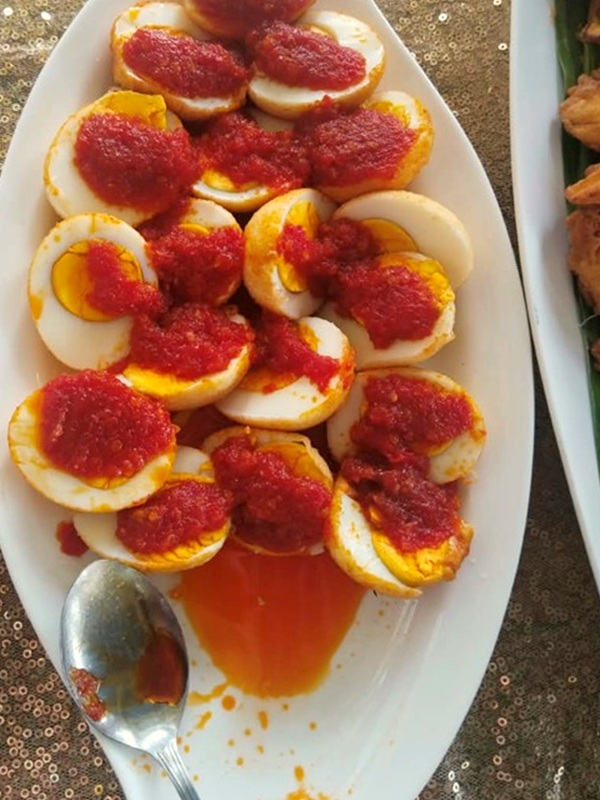Telur Balado: (26, 35, 468, 605)
